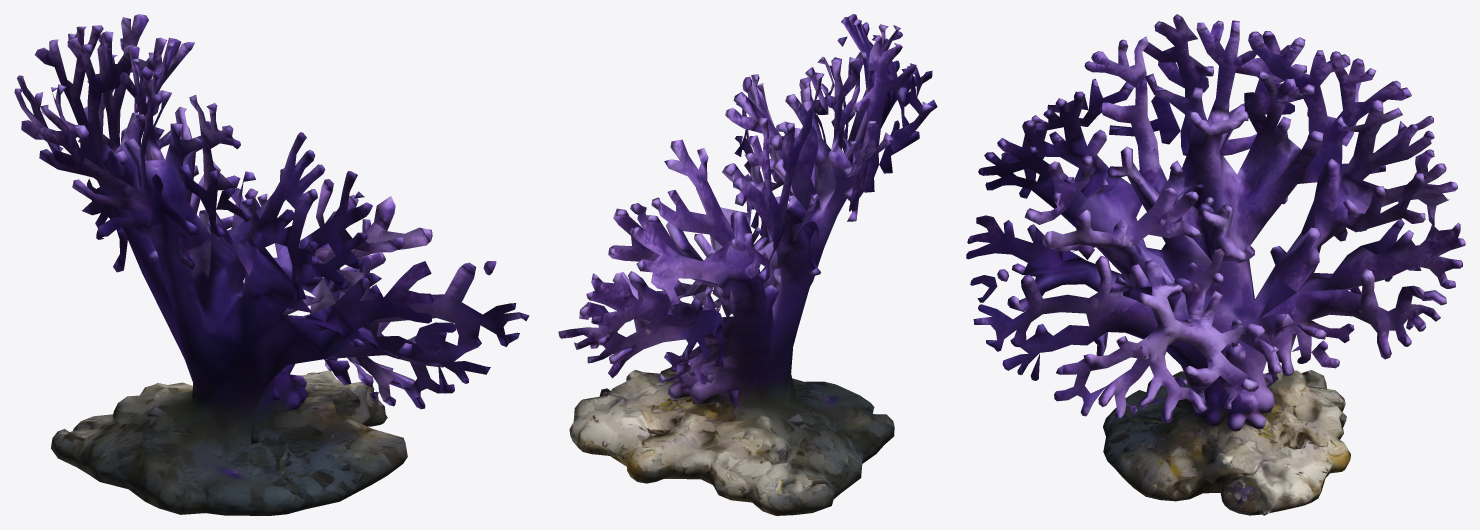
The model's file is Coral_Fan.fbx.
3 renders of one model, left to right at view 1: azimuth 30°, elevation 25°; view 2: azimuth 150°, elevation 25°; view 3: azimuth 270°, elevation 25°, orthographic. The views are drawn at different scales.
Parts seen in each view (by area): view 1: tripo_node_98834b07; view 2: tripo_node_98834b07; view 3: tripo_node_98834b07.
Part boxes in pixels (<box>): tripo_node_98834b07: <box>14,14,529,515</box>; tripo_node_98834b07: <box>558,14,937,515</box>; tripo_node_98834b07: <box>966,14,1465,515</box>.
Size of the model in its own units: 0.6479 by 0.8882 by 0.9995.
1 material, 1 textured.
